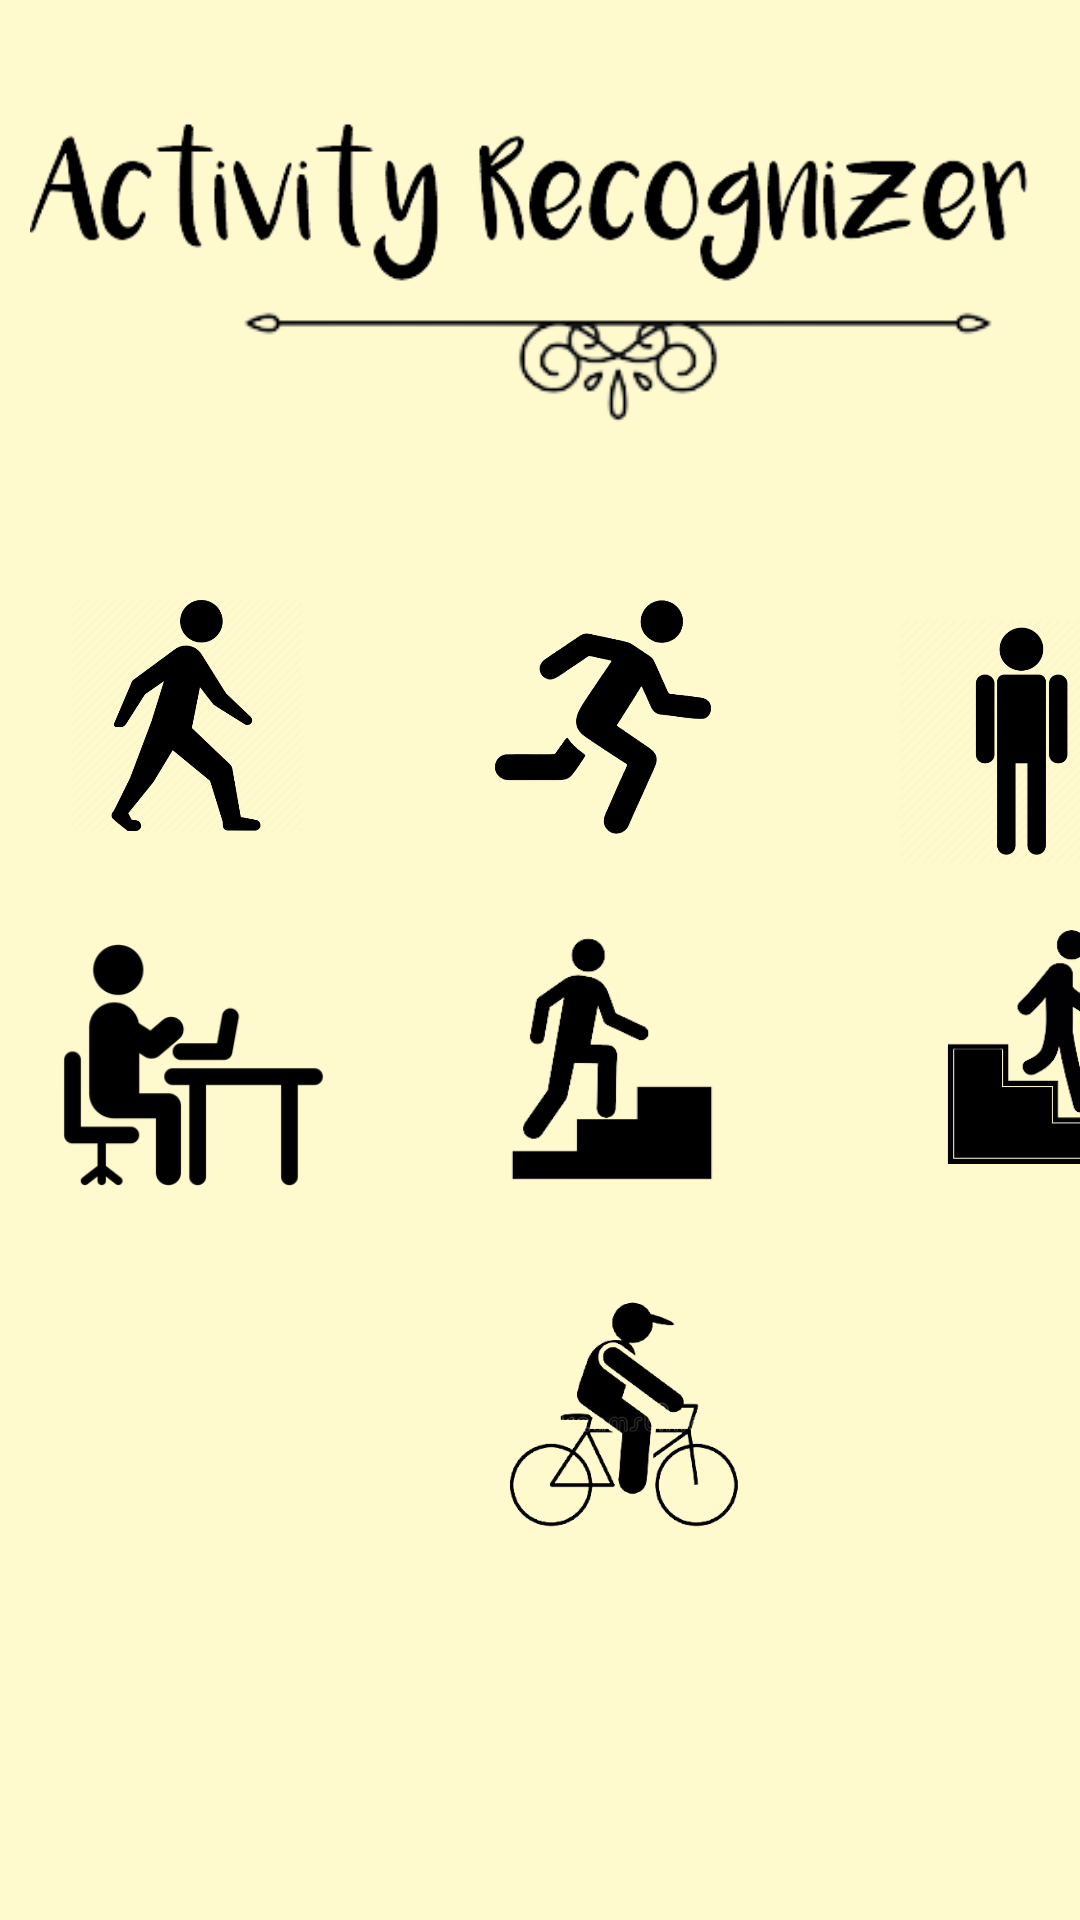

Point at icon controls on the screen. Image size 1080×1920, points as point (x, y).
biking: point (624, 1414)
jogging: point (603, 717)
sitting: point (193, 1065)
wallking: point (186, 715)
